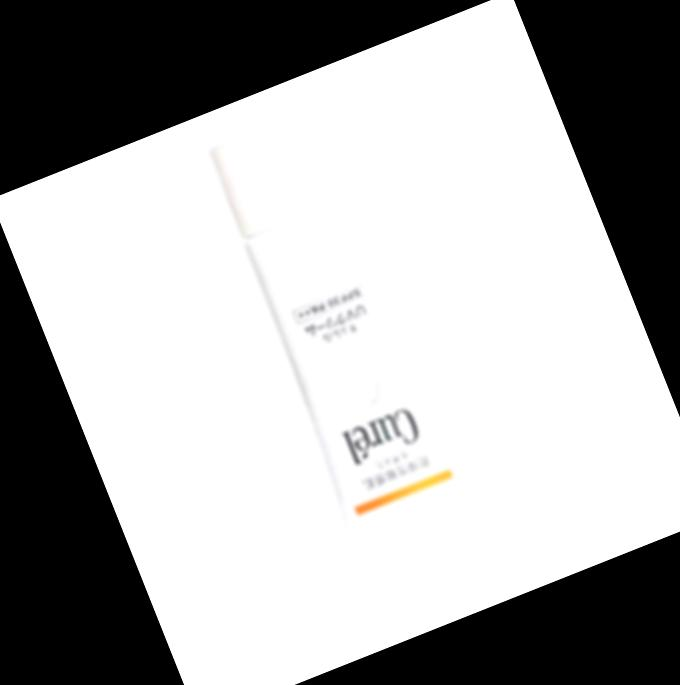cosmetic: (191, 102, 504, 594)
